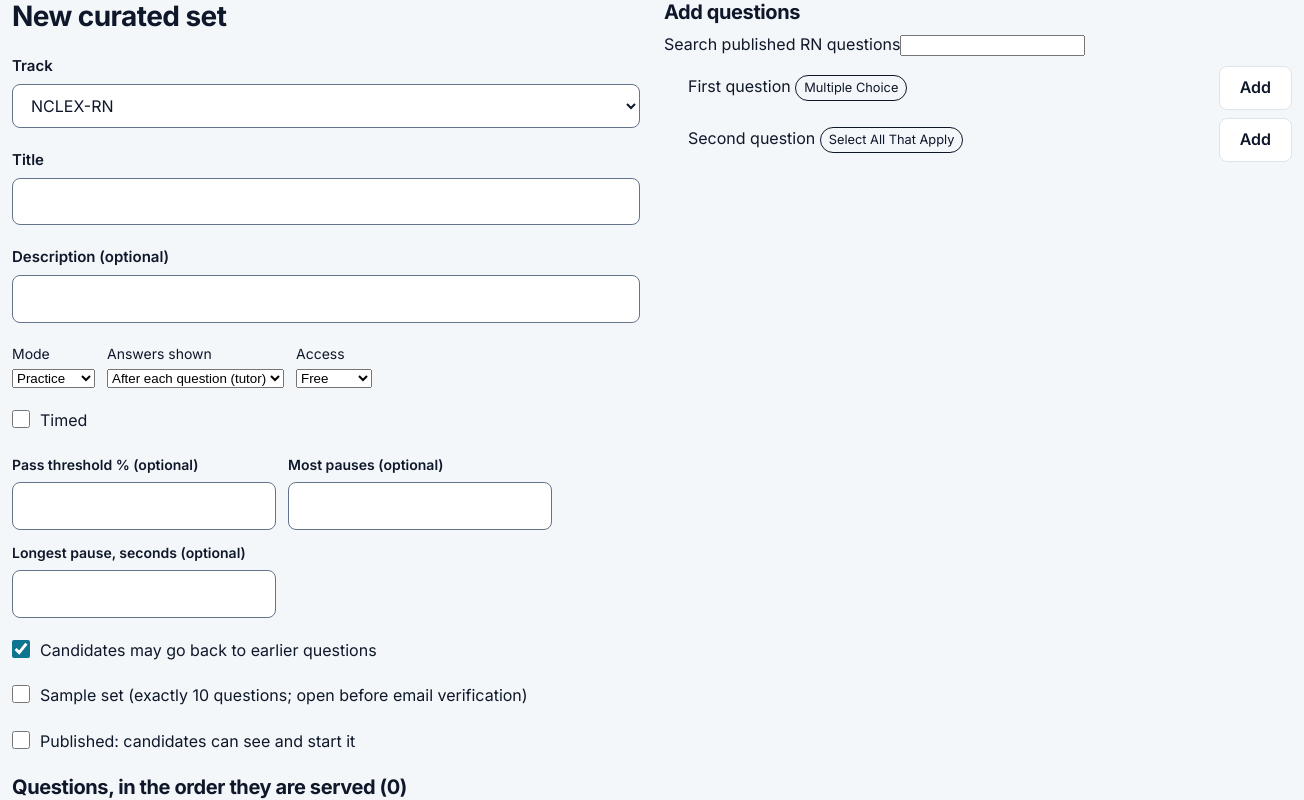
Test case: TestSetEditor › names the question the server refused
Type "Set" into the field labelled "Title".
click(326, 201); type("Set")  # box [12, 178, 640, 225]
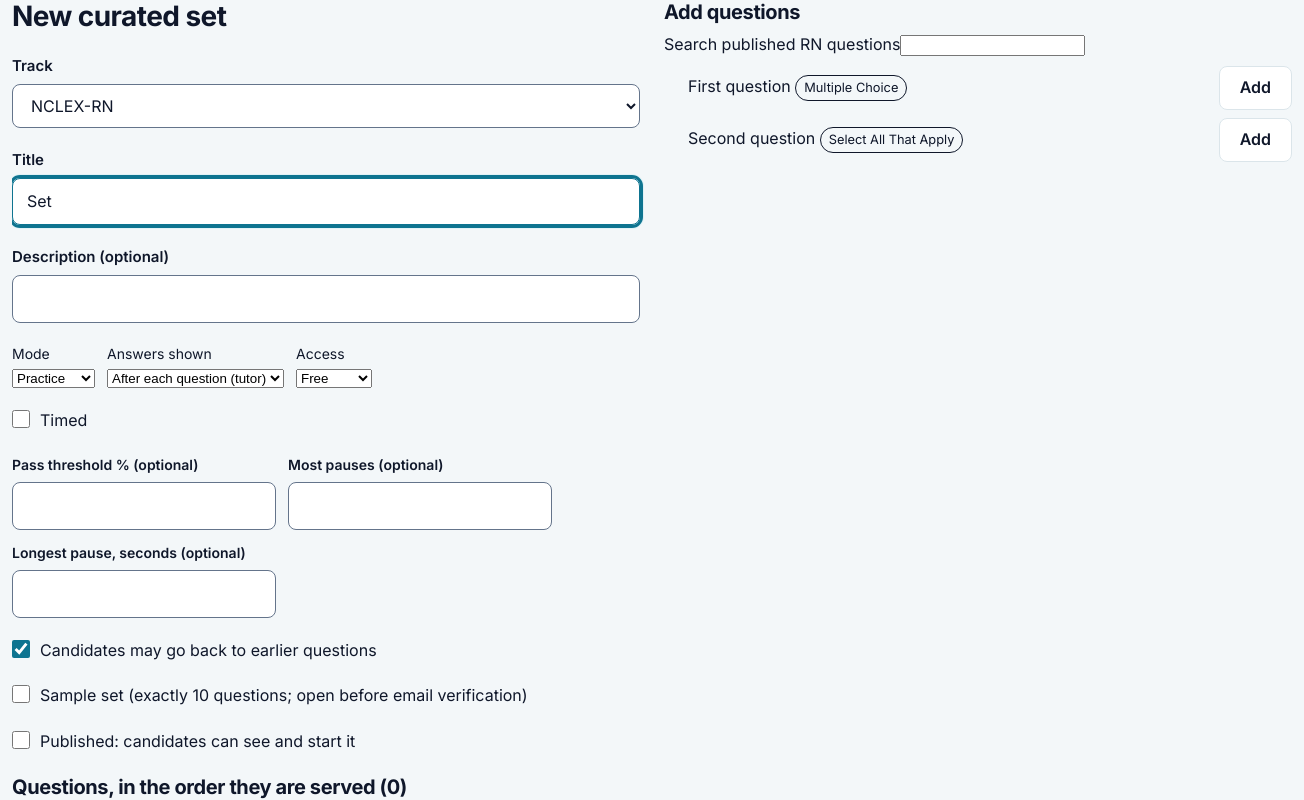
Click the button with aria-label "Add: First question".
click(1255, 88)  # box [1219, 66, 1292, 110]
(page scrolled)
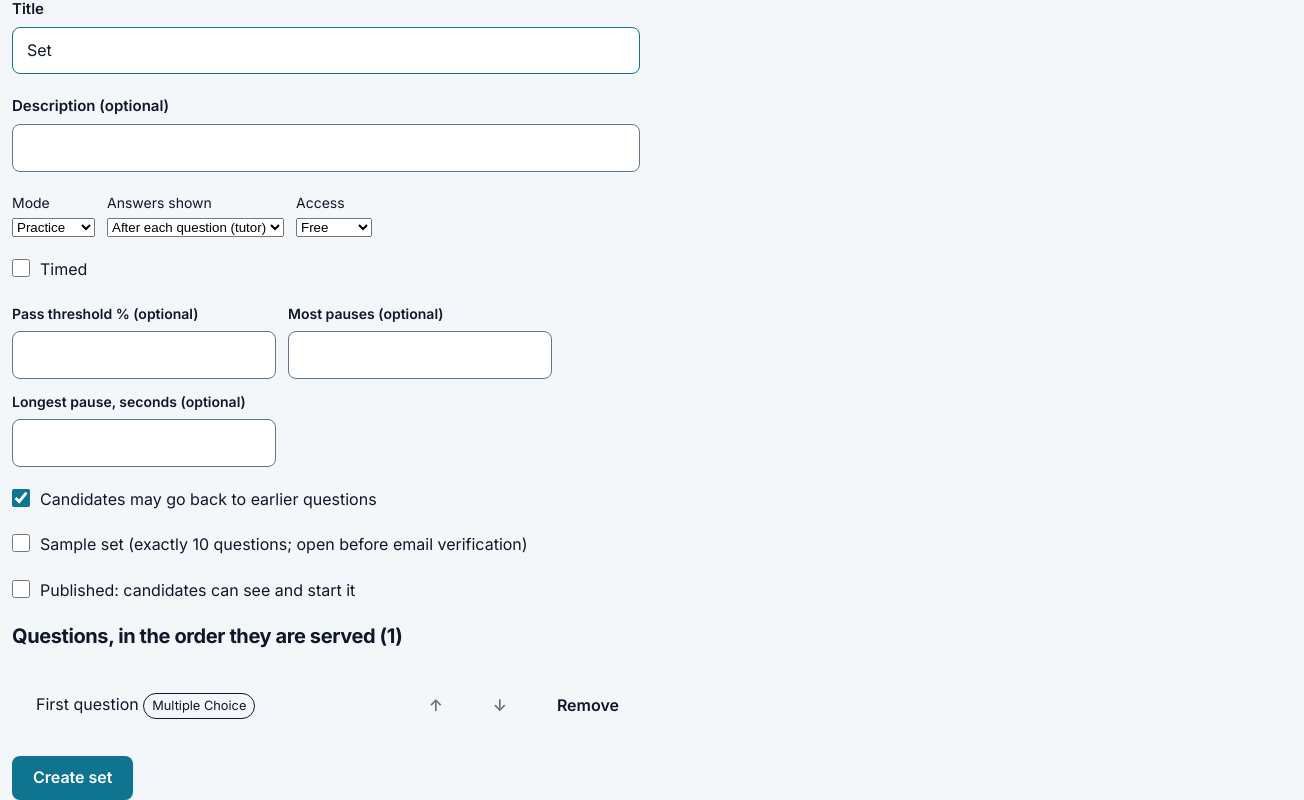
Click the button "Create set".
click(73, 778)  # box [12, 756, 134, 799]
(page scrolled)
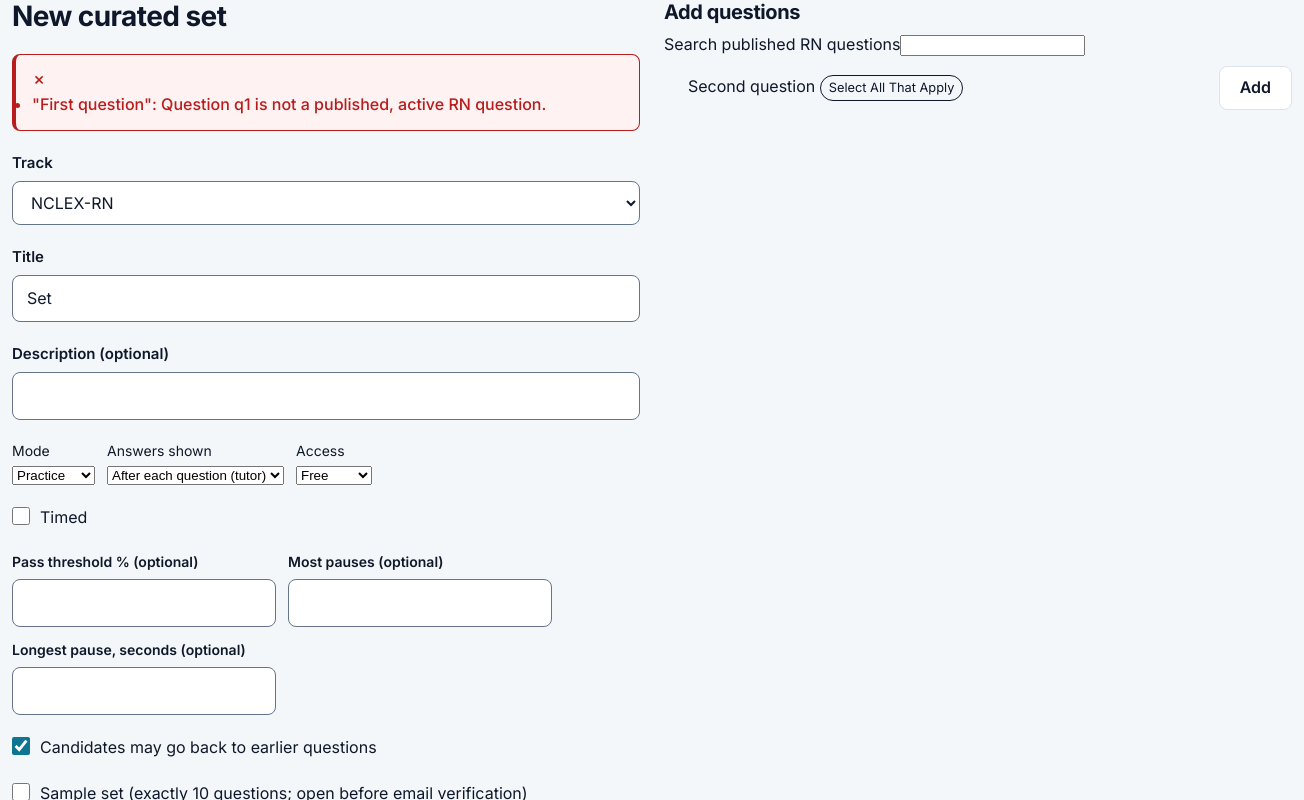
Now the message reads "\"First question\": Question q1 is not a published, active RN question.", box [32, 94, 546, 114]
